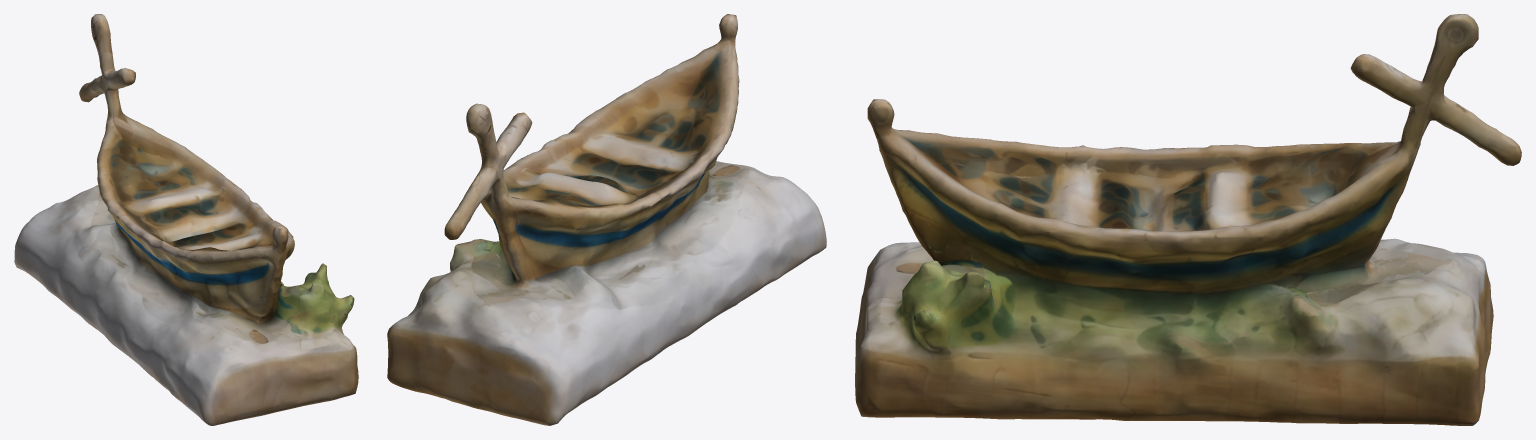
The model's file is e27788f8-4d00-4e0f-ace7-24738111db5f.glb.
The picture shows the model from 3 angles, left to right: view 1: azimuth 30°, elevation 25°; view 2: azimuth 150°, elevation 25°; view 3: azimuth 270°, elevation 25°; orthographic projection. The views are drawn at different scales.
Bounding box in the file's own units: 0.5208 × 0.7424 × 1.2.
Materials: 1 (1 with a texture image).
